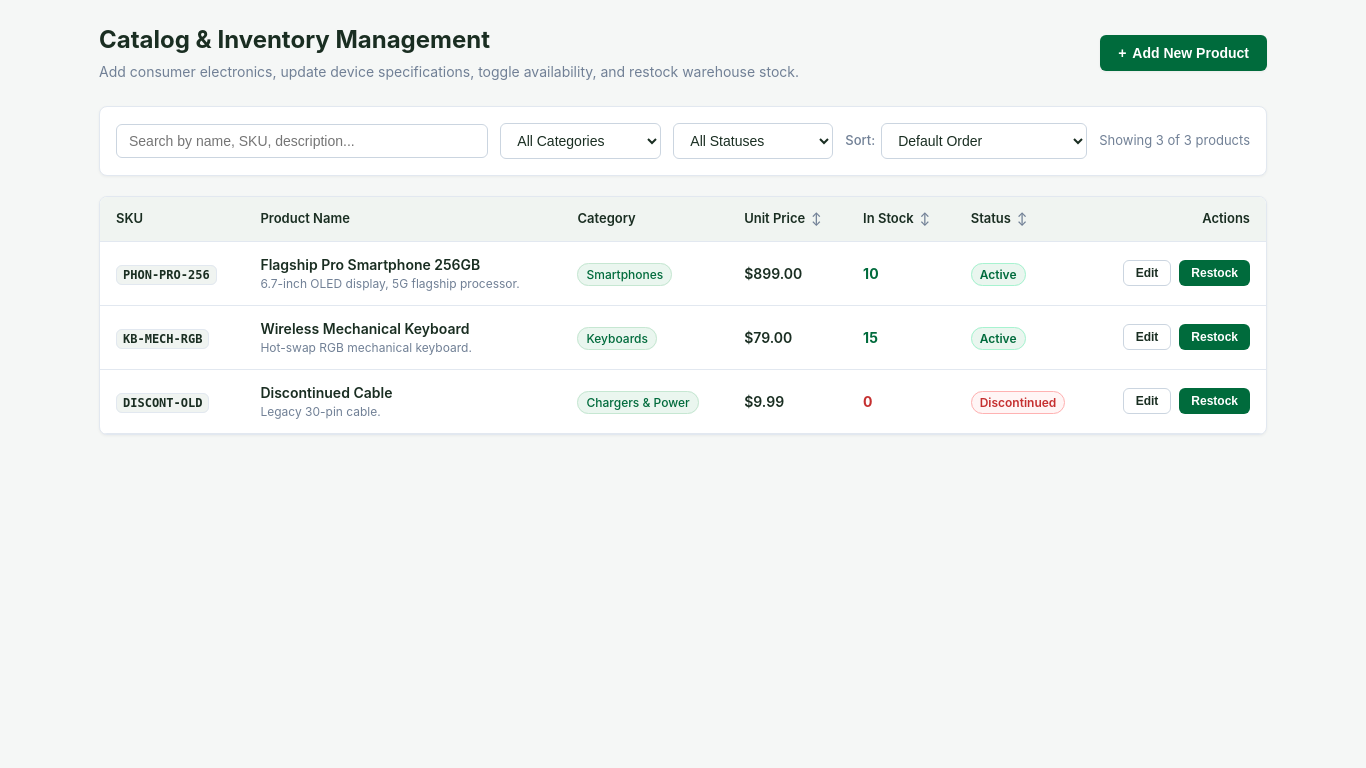
Feature 6: Product Catalog Management Component (F-06) › opens Edit modal and updates product active status
Expected: the text "Flagship Pro Smartphone 256GB" is shown, x1=260 y1=256 x2=480 y2=273
Click the button with test id "edit-btn-1" at [1147, 273], box x1=1123 y1=260 x2=1171 y2=286
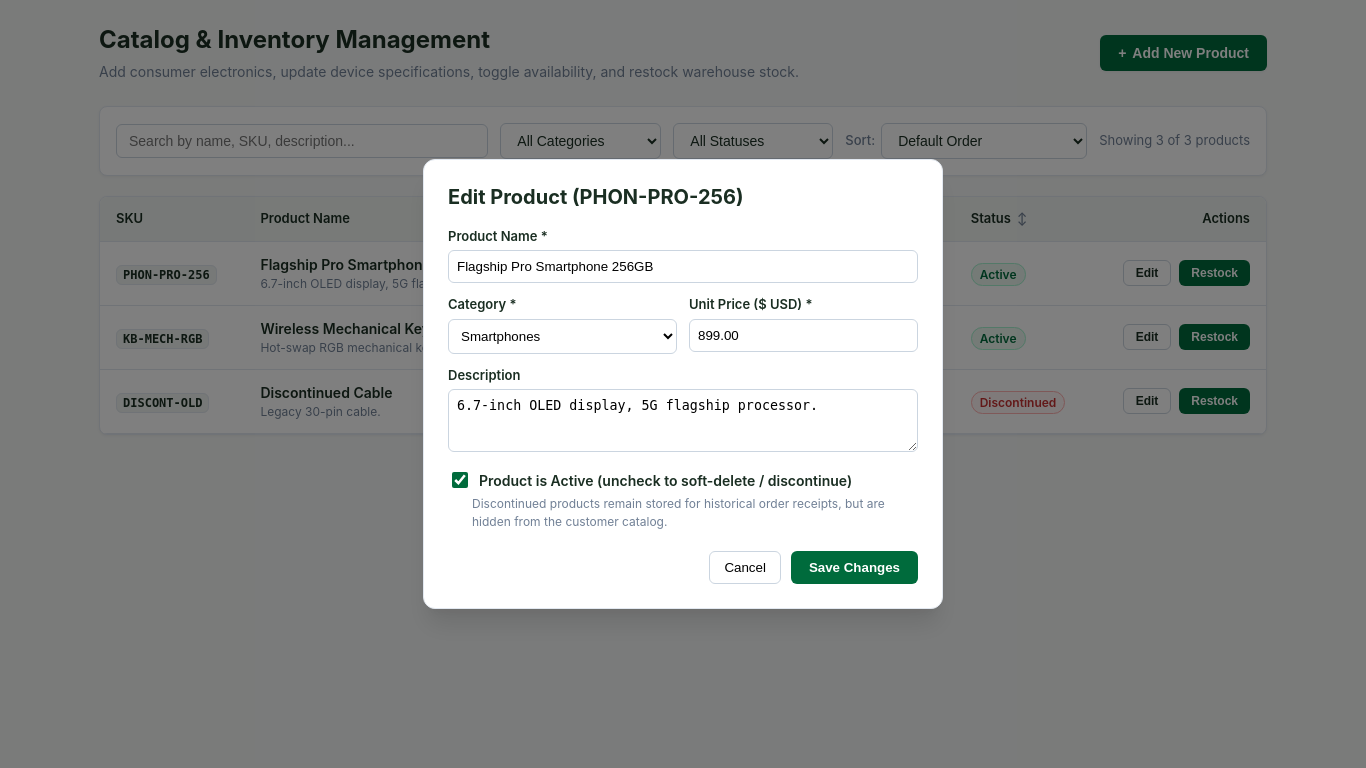
Expected: the element with test id "edit-product-modal" is shown
Expected: the field with test id "input-edit-name" holds "Flagship Pro Smartphone 256GB", x1=448 y1=250 x2=918 y2=283
Expected: the checkbox with test id "input-edit-is-active" is checked
Click the checkbox with test id "input-edit-is-active" at [460, 480], box x1=452 y1=472 x2=468 y2=488
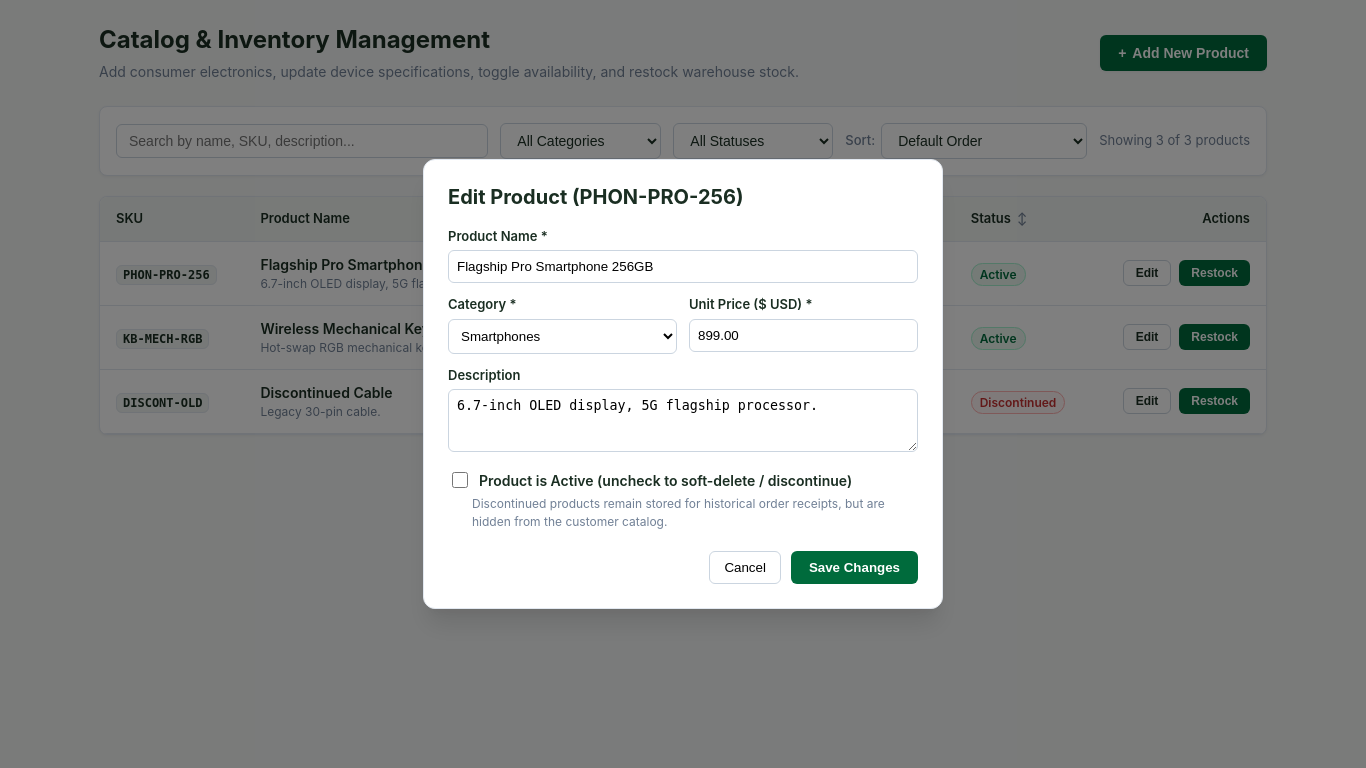
Expected: the checkbox with test id "input-edit-is-active" is not checked, x1=452 y1=472 x2=468 y2=488
Click the button with test id "submit-edit-product-btn" at [854, 568], box x1=791 y1=551 x2=918 y2=584
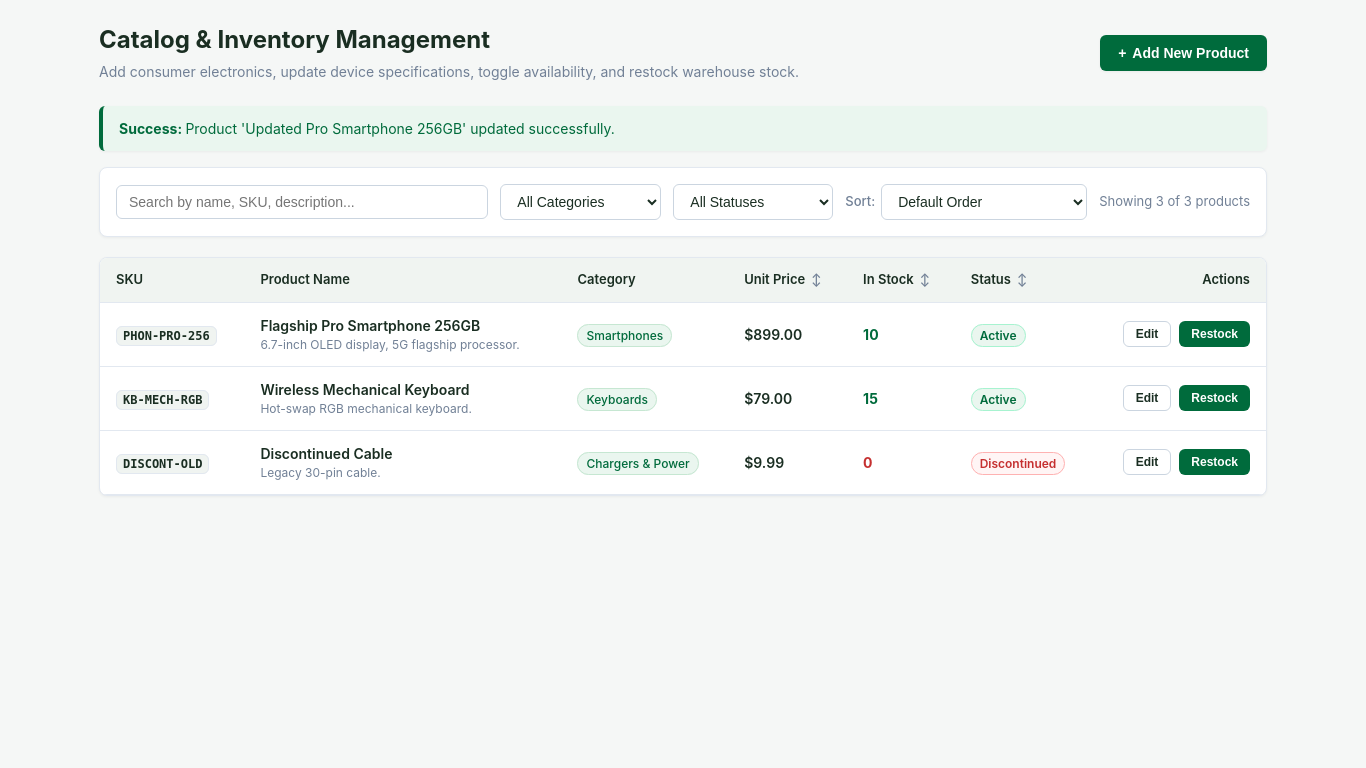
Expected: the element with test id "mgmt-success-banner" is shown, x1=99 y1=106 x2=1267 y2=151
Expected: the element with test id "mgmt-success-banner" shows "updated successfully", x1=185 y1=120 x2=615 y2=137
